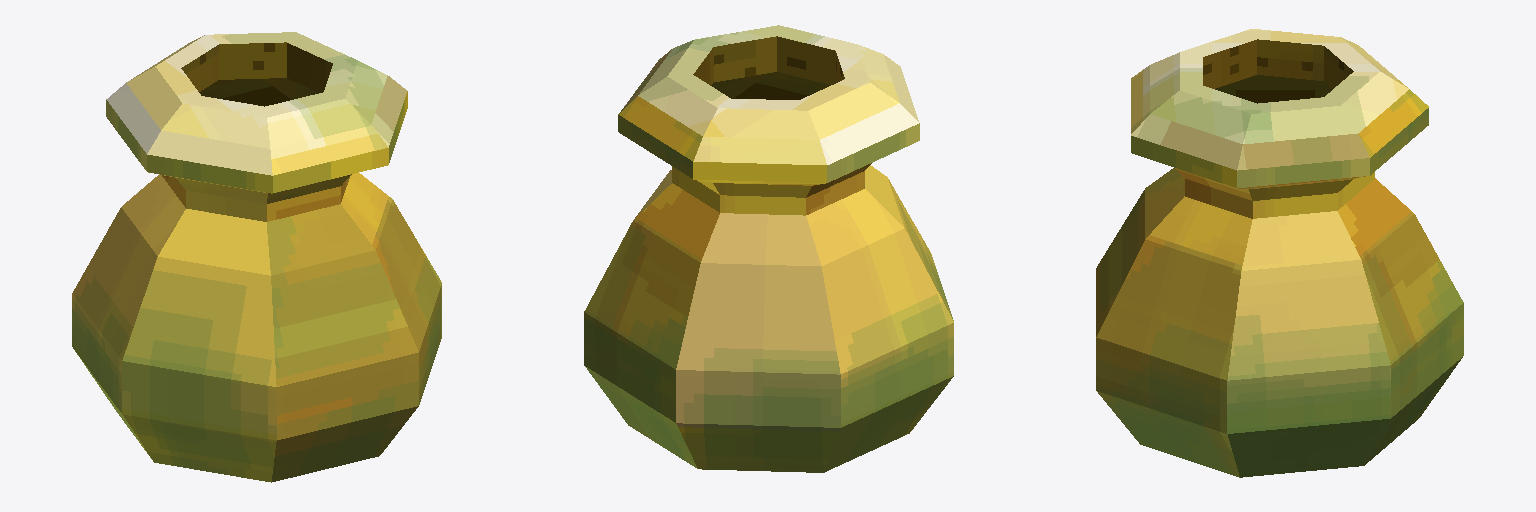
3 views of the same model, side by side, from view 1: azimuth 30°, elevation 25°; view 2: azimuth 150°, elevation 25°; view 3: azimuth 270°, elevation 25° (orthographic).
Visible parts, largest first — view 1: Vase3; view 2: Vase3; view 3: Vase3.
Part boxes in pixels (left/top/right/bottom): Vase3: left=72, top=32, right=441, bottom=482; Vase3: left=584, top=25, right=953, bottom=472; Vase3: left=1096, top=29, right=1463, bottom=477.
Size of the model in its own units: 1.18 by 1.3 by 1.17.
Materials: 1 (1 with a texture image).